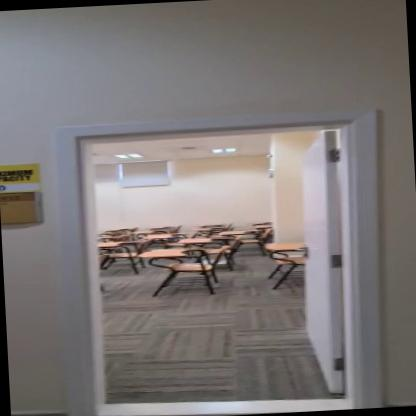open: (46, 95, 387, 416)
